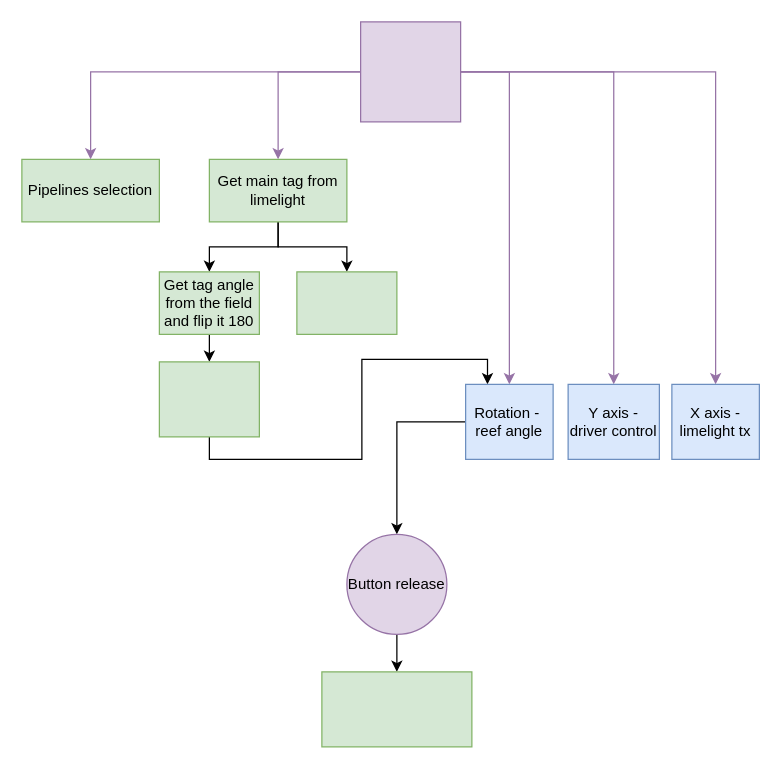
The diagram is 781 pixels wide and 769 high, and some of its shapes have lost their labels. Each missing label, with the centre of its shape:
"Button press by operator" goes at point 410,71.
"change valid IDs to only this tag" goes at point 346,302.
"Get current robot angle - angle result from tag" goes at point 208,399.
"Return valid IDs to all tags" goes at point 396,709.
